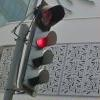traffic lights: (22, 0, 60, 95)
